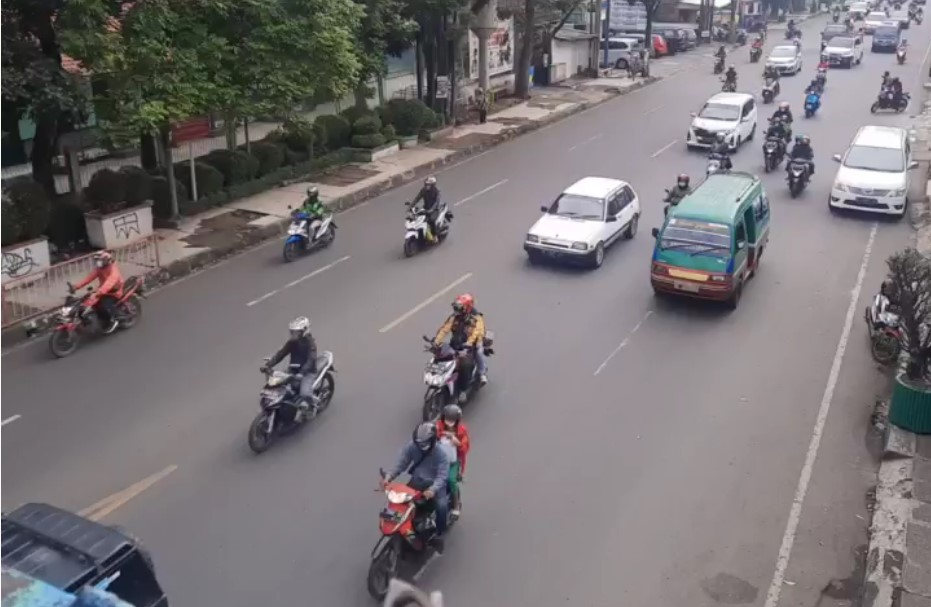motor: (374, 416, 473, 592), (249, 327, 338, 446), (418, 290, 497, 417), (47, 252, 145, 351), (394, 172, 448, 251), (283, 192, 334, 264)
